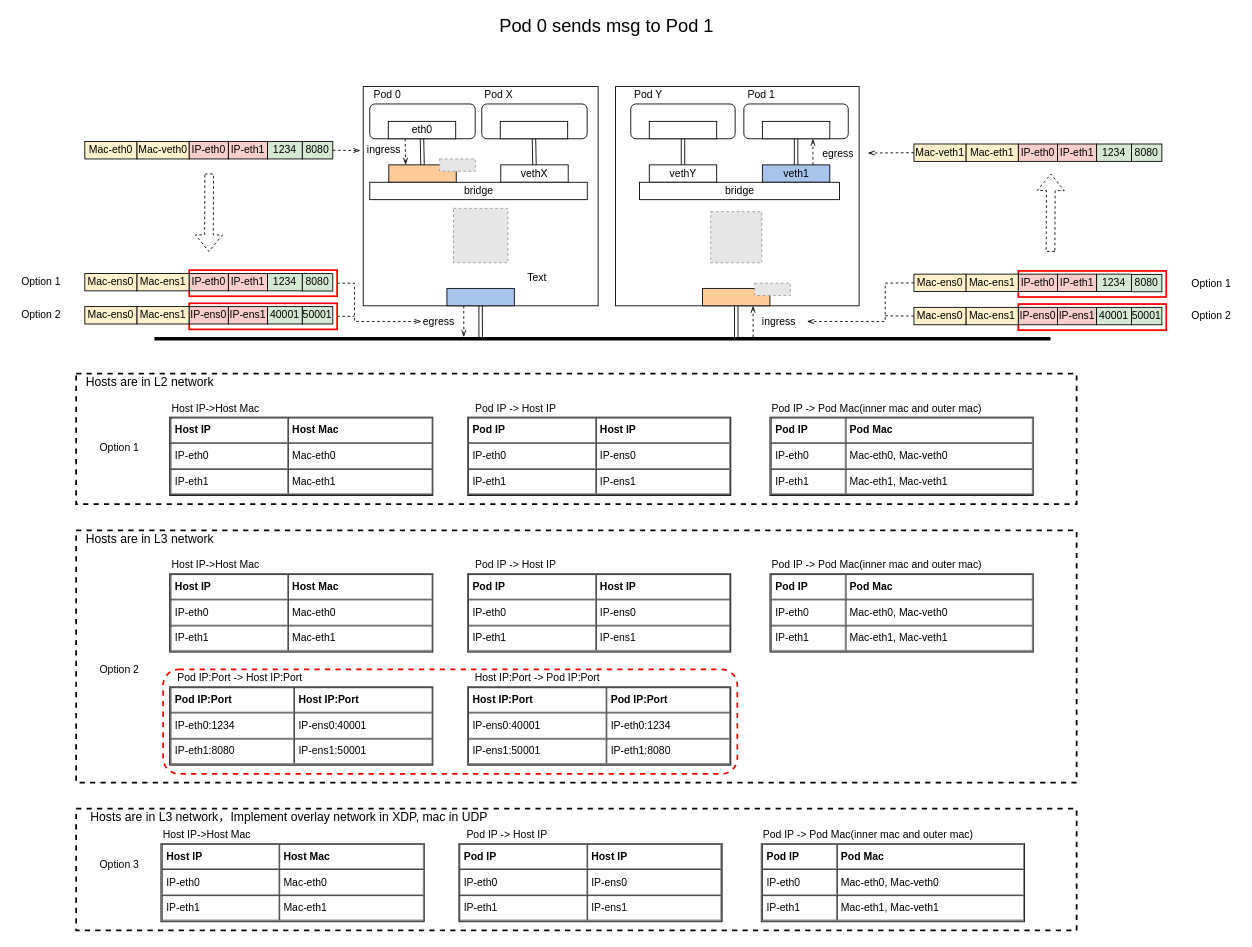
Image size: 1252x947. Some labels were removed from this diagram. Grey dashed boxes stand in for pictures. The shapes that lost their labels are listed below. From the top down, each one's centre as x and y in pixels, then its label:
At [533,129]: "ethX".
At [682,129]: "ethY".
At [796,129]: "eth1".
At [422,173]: "veth0".
At [480,297]: "ens0".
At [736,297]: "ens1".
